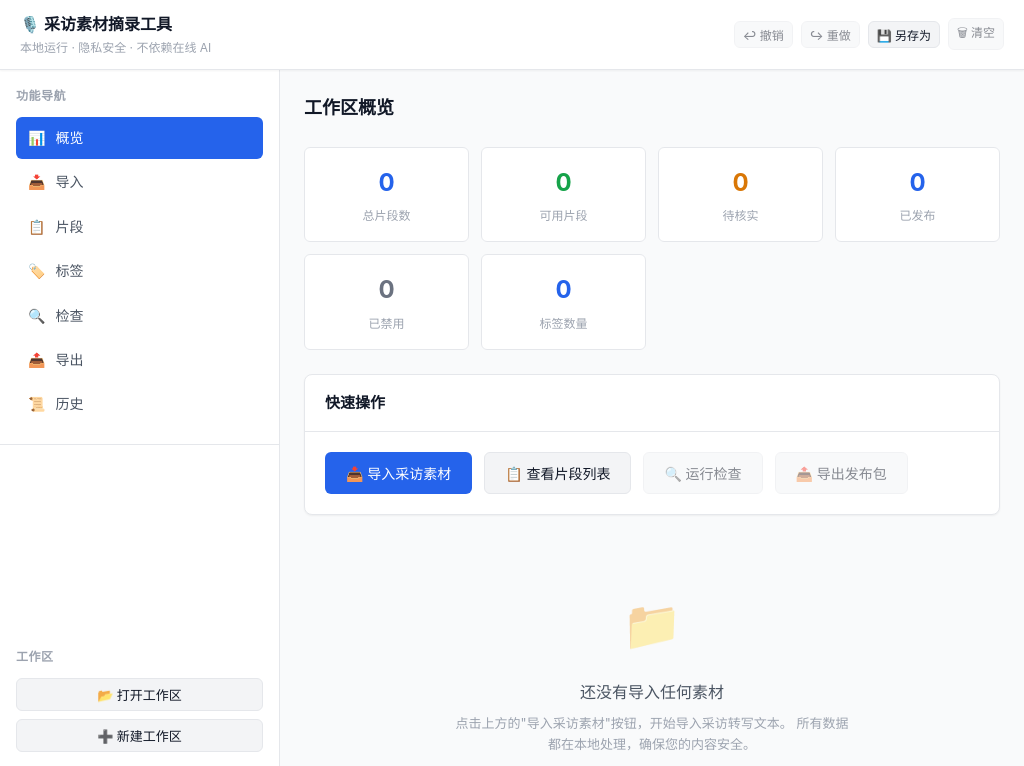
未保存改动确认弹窗 - 组件渲染验证 › 4. 选择"丢弃当前并加载"：关闭弹窗，加载新内容
Click the text "导入" at coordinates (70, 183), box [56,171,84,194]
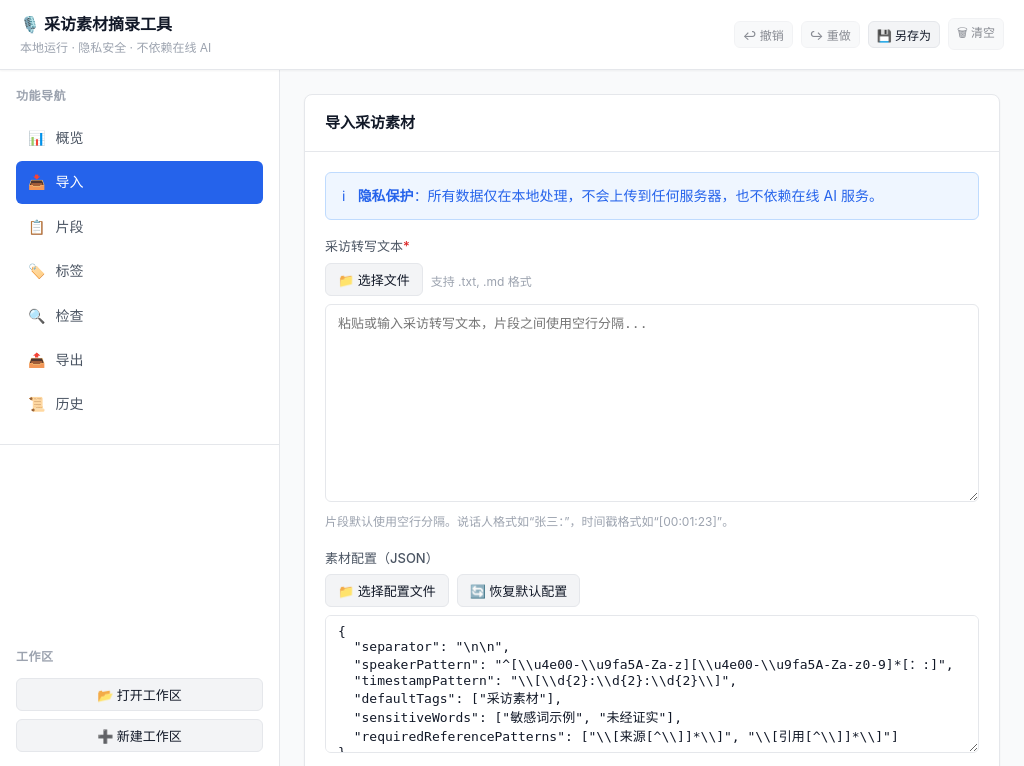
Type "张三：今天我们来谈谈这个项目。 李四：好的，这个项目非常重要。 王五：我认为我们需要更多时间。 " into the text box with placeholder "粘贴或输入采访转写文本，片段之间使用空行分隔..." at coordinates (652, 403), box [325,304,979,502]
(page scrolled)
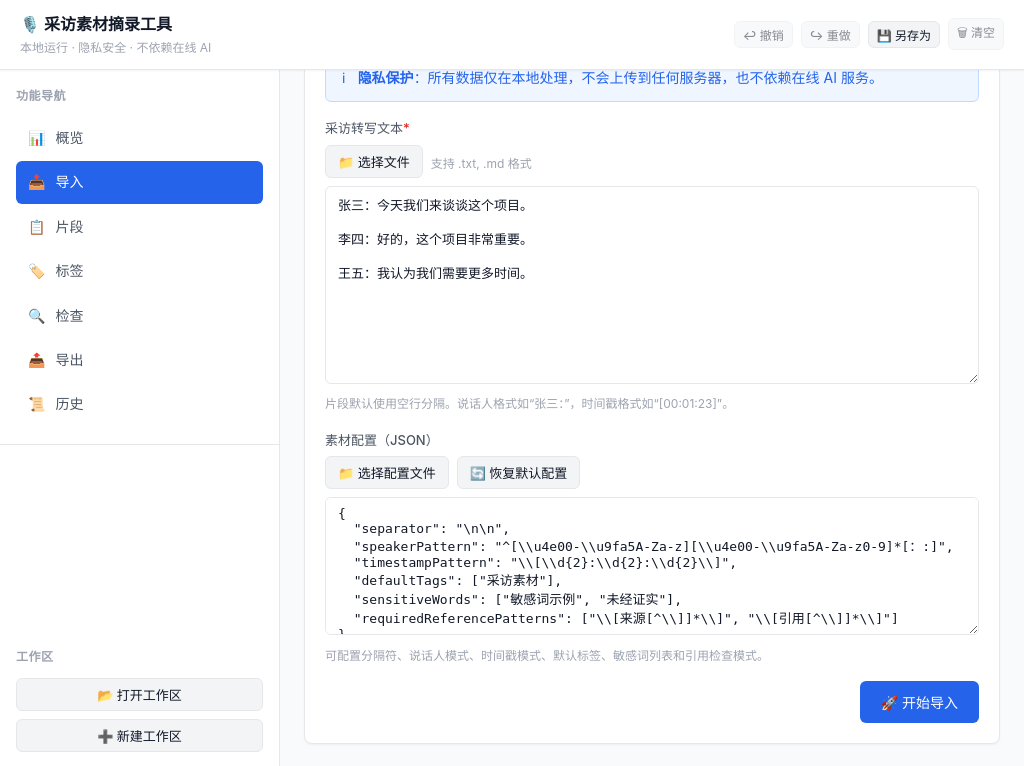
Click the button "🚀 开始导入" at coordinates (919, 702), box [860,681,979,723]
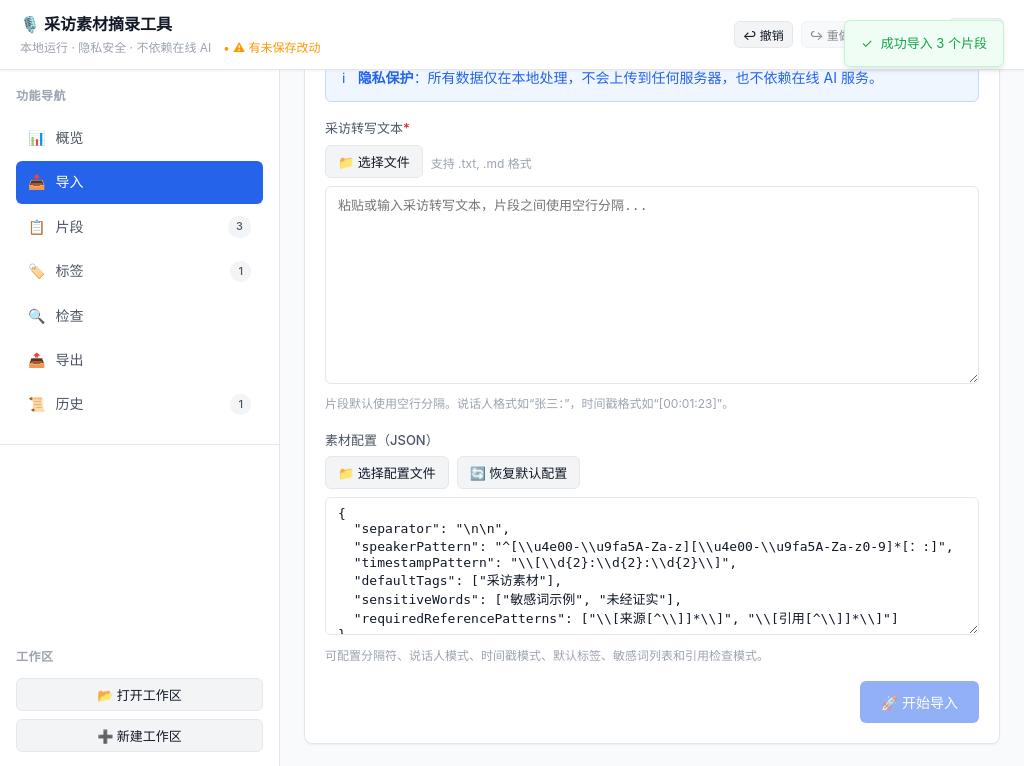
Expected: the text "成功导入 3 个片段" is shown, [881,33,987,54]
Expected: the text "• ⚠ 有未保存改动" is shown, [223,40,320,55]
Click the button "📂 打开工作区" at coordinates (140, 694), box [16,678,263,711]
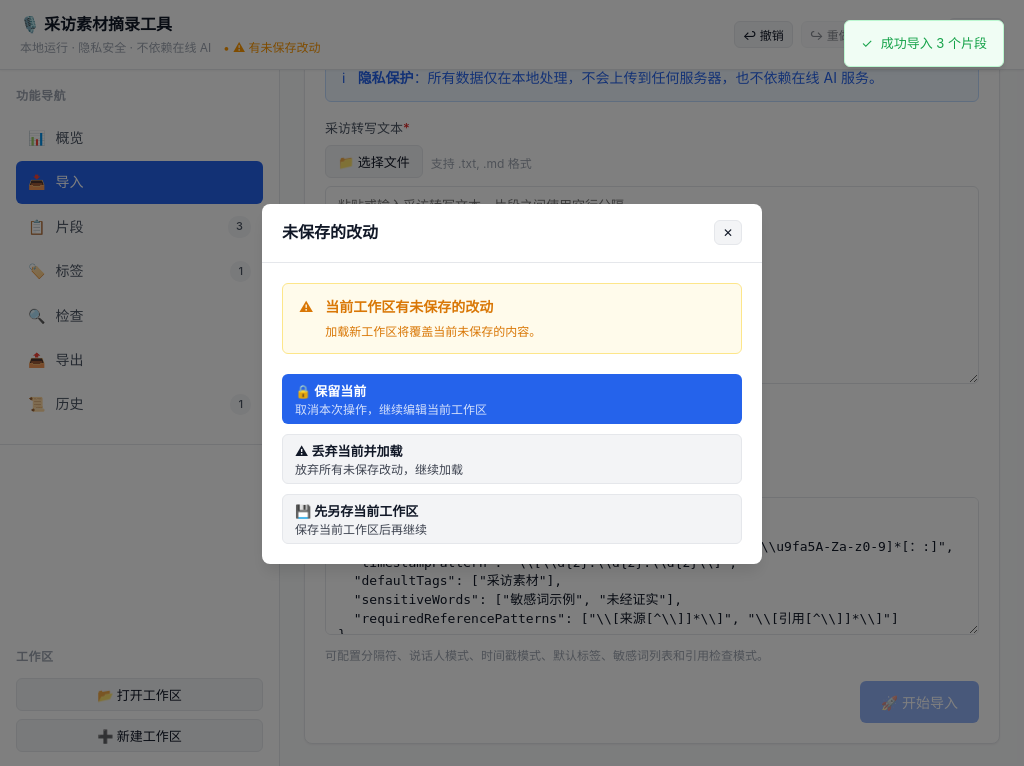
Expected: the element with test id "unsaved-changes-modal" is shown, [262,204,762,564]
Click the button with test id "unsaved-changes-overwrite-btn" at coordinates (349, 451), box [282,434,742,484]
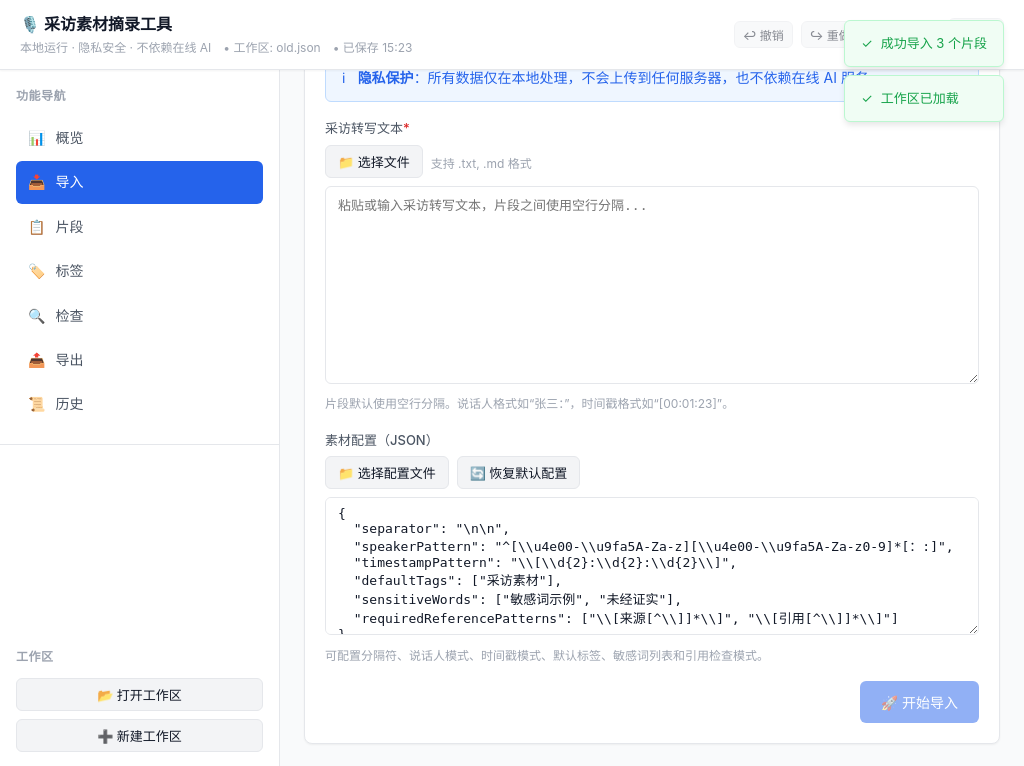
Expected: the element with test id "unsaved-changes-modal" is gone
Expected: the text "工作区已加载" is shown, [881,88,959,109]
Expected: the text with test id "unsaved-changes-indicator" is gone
